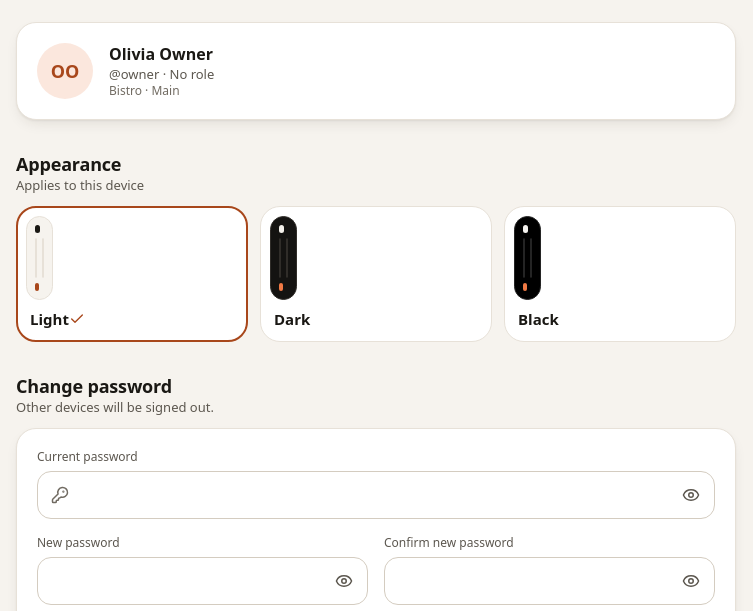
Scenario: AccountPage — change password › shows server field errors on the matching fields
In the password field labelled "Current password": point(376, 495) [37,471,715,519], type "wrong-password-1"
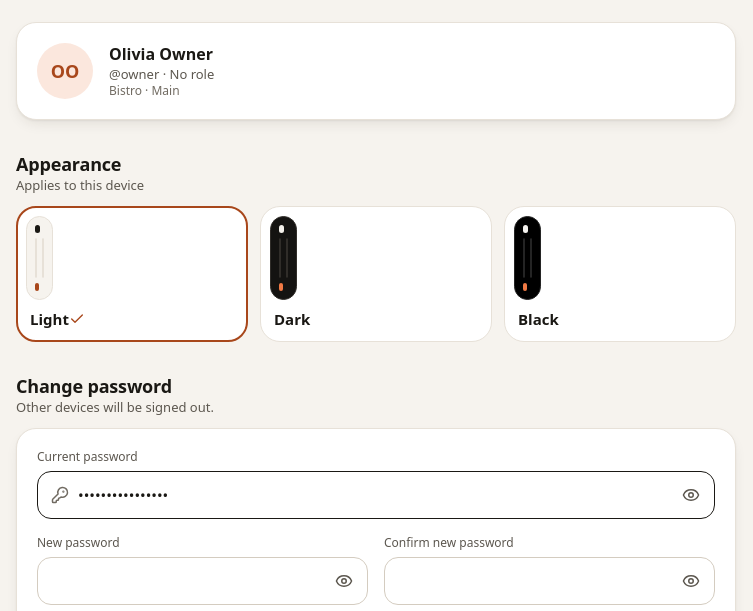
In the password field labelled "New password": point(202, 581) [37,557,368,605], type "brand-new-pass-9"
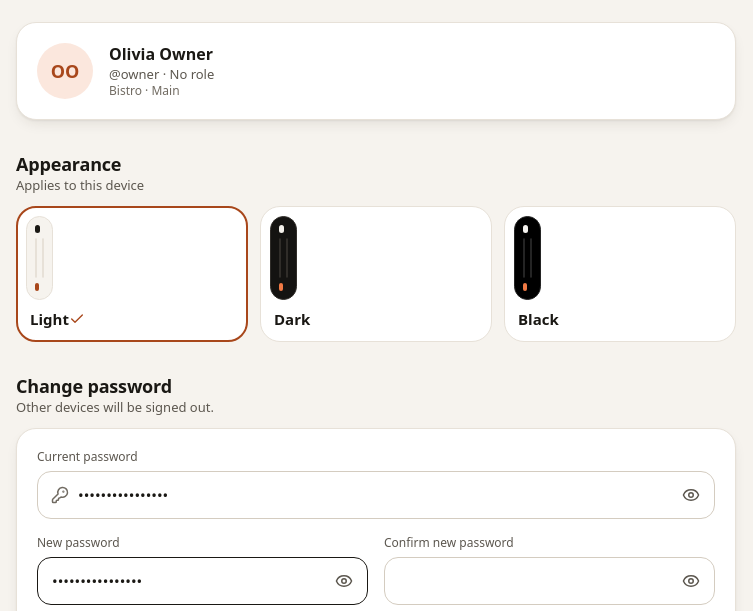
In the password field labelled "Confirm new password": point(550, 581) [384,557,715,605], type "brand-new-pass-9"
(page scrolled)
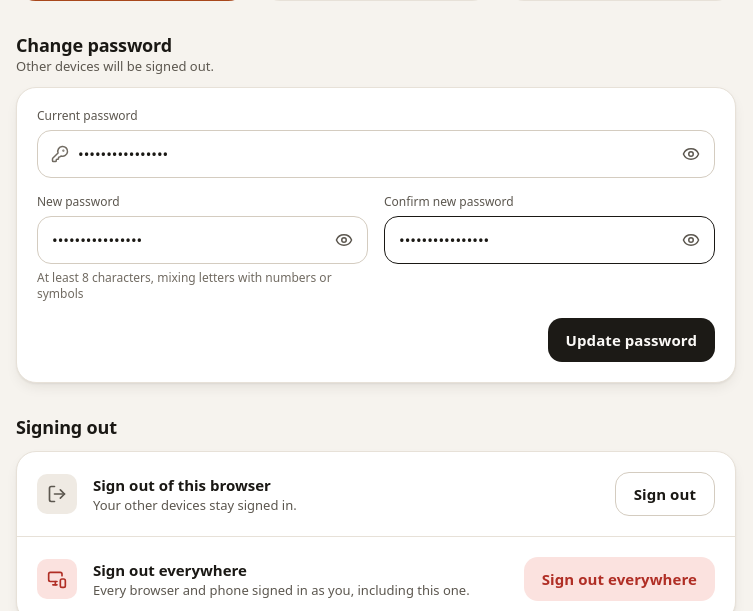
Click the button "Update password": point(631, 340) [548,318,715,362]
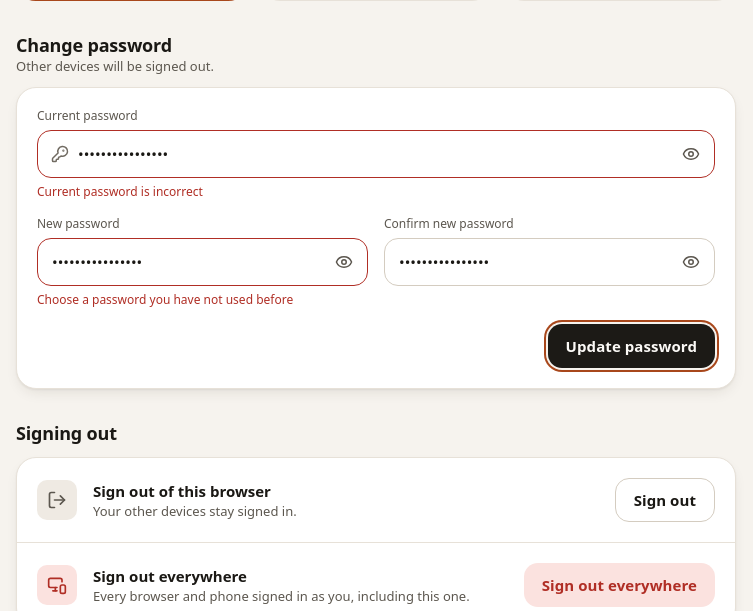
Check: the text "Current password is incorrect" is shown, box [37,183,203,200]
Check: the text "Choose a password you have not used before" is shown, box [37,291,293,308]
